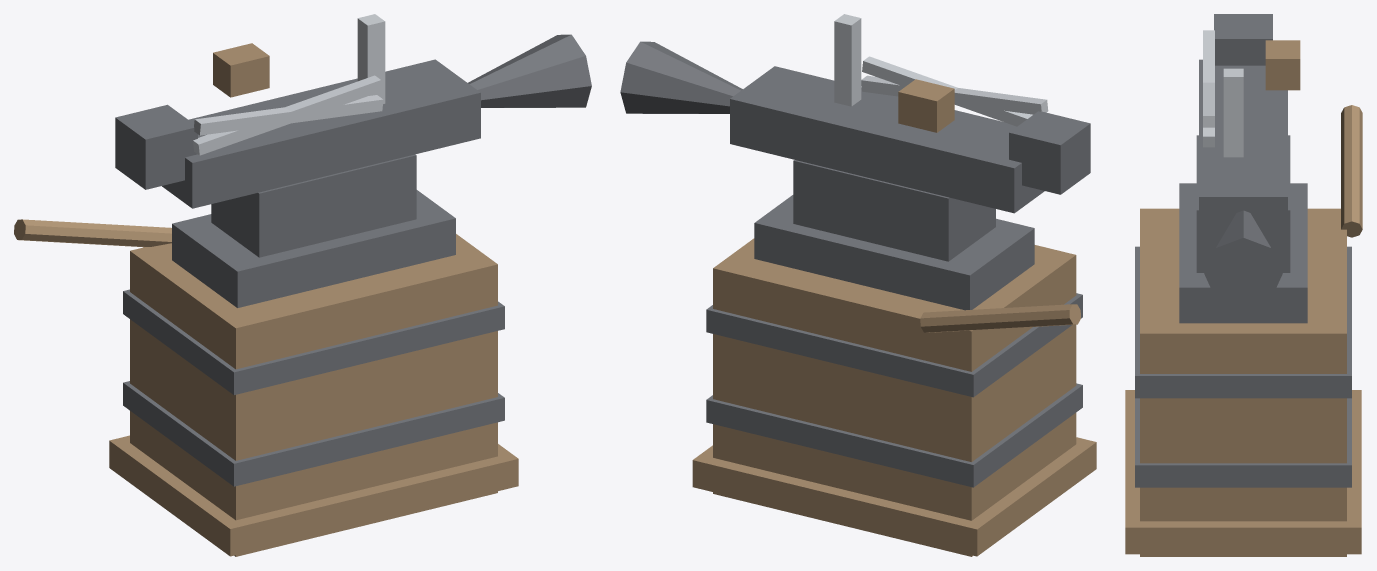
Rendered from steampunk-airship-dock-and-workshop-anvil-and-block-48995684.glb.
3 views of the same model, side by side, from view 1: azimuth 30°, elevation 25°; view 2: azimuth 150°, elevation 25°; view 3: azimuth 270°, elevation 25° (orthographic). The views are drawn at different scales.
Visible parts, largest first — view 1: anvil-and-block; view 2: anvil-and-block; view 3: anvil-and-block.
Part boxes in pixels (<box>): anvil-and-block: <box>14,14,591,556</box>; anvil-and-block: <box>620,14,1096,556</box>; anvil-and-block: <box>1125,14,1362,556</box>.
Bounding box in the file's own units: 1.14 × 1 × 0.482.
